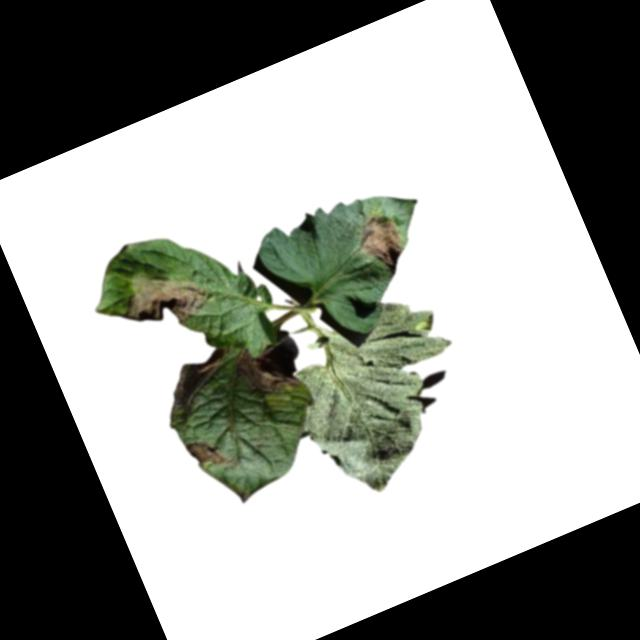Late_blight: (110, 253, 215, 347), (157, 343, 241, 408), (235, 336, 300, 404), (351, 208, 413, 279), (181, 431, 226, 481)
healthy: (265, 282, 491, 508)
